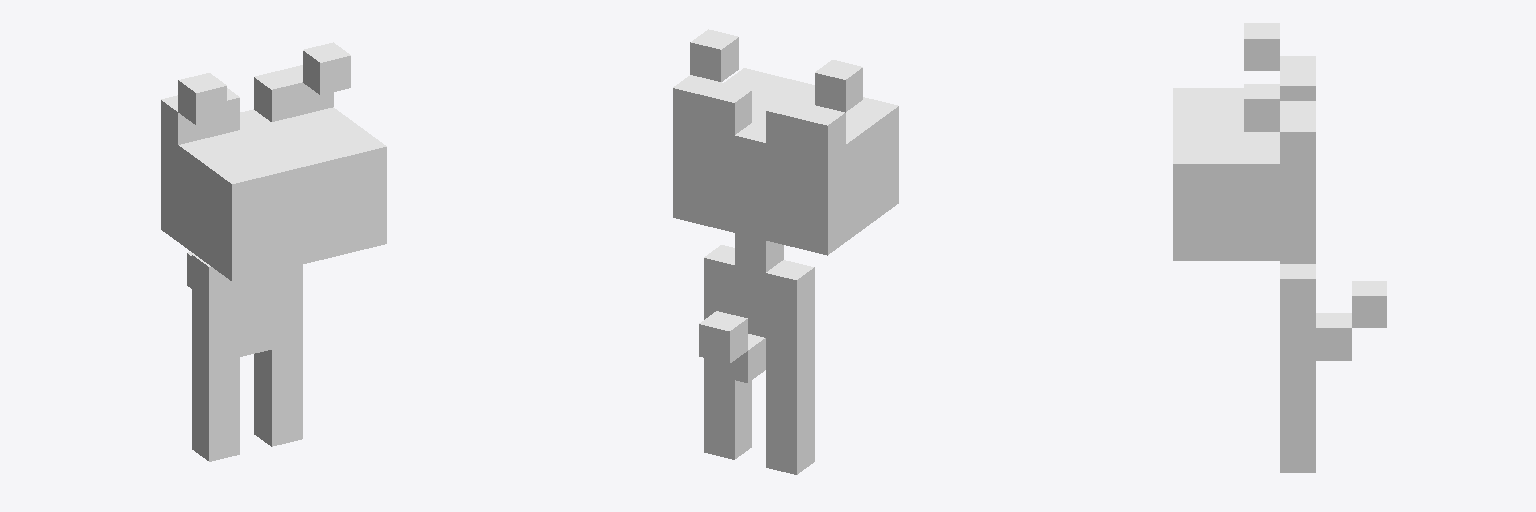
File: char-pig.obj
3 renders of one model, left to right at view 1: azimuth 30°, elevation 25°; view 2: azimuth 150°, elevation 25°; view 3: azimuth 270°, elevation 25°, orthographic.
Visible parts, largest first — view 1: pig; view 2: pig; view 3: pig.
Boxes of the visible parts, x1,y1,x2,y2 form: pig: [161, 42, 386, 461]; pig: [673, 29, 898, 474]; pig: [1173, 23, 1386, 472].
Bounding box in the file's own units: 0.5 × 1.2 × 0.6.